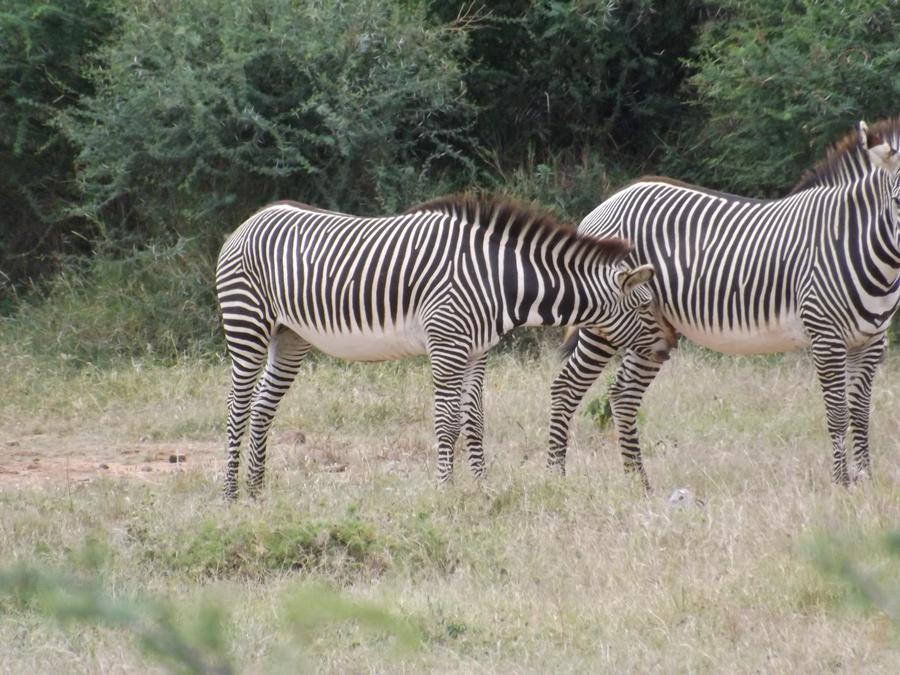zebra_grevys: (215, 182, 483, 355)
